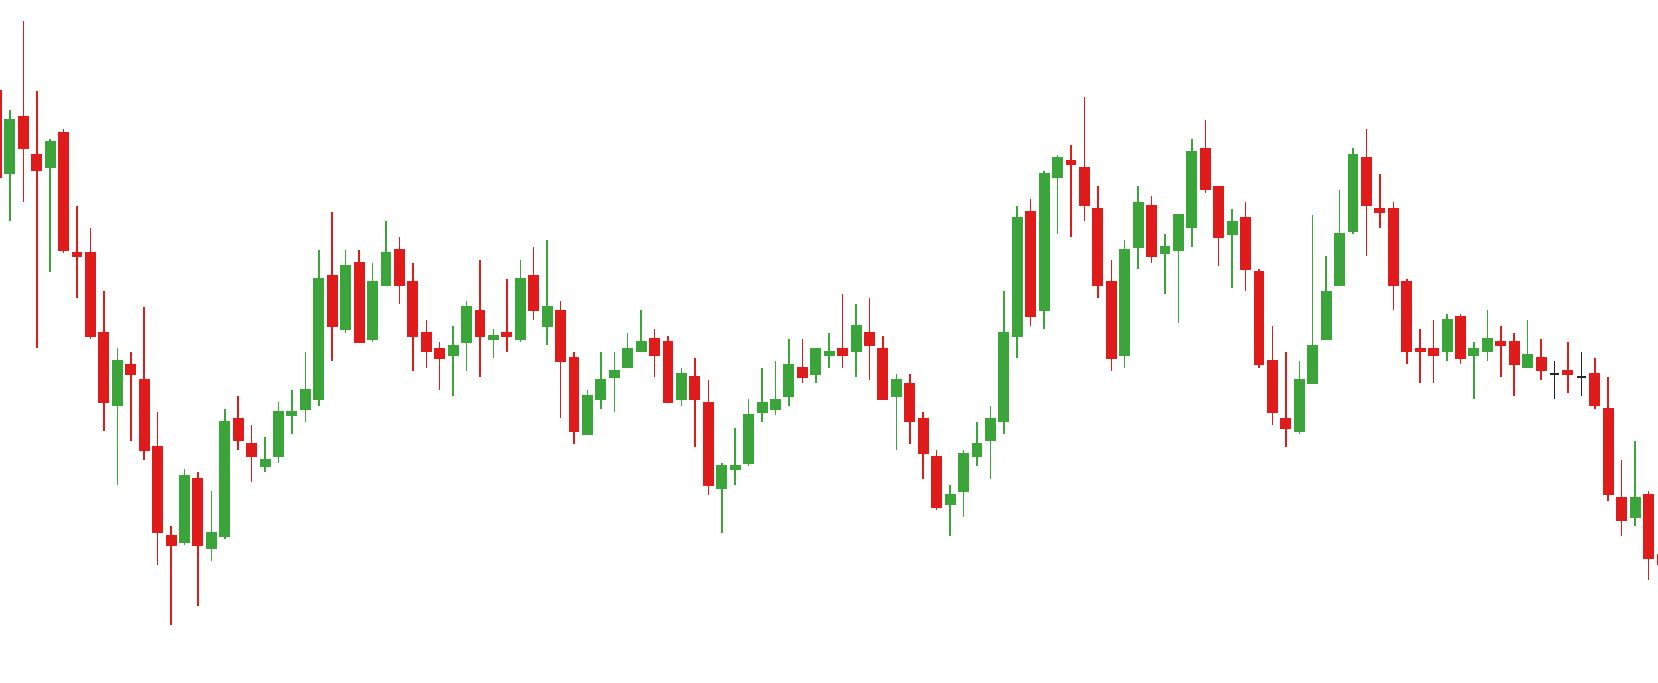buy: (1103, 285, 1320, 449), (718, 418, 956, 541)
sell: (1130, 122, 1213, 243)
